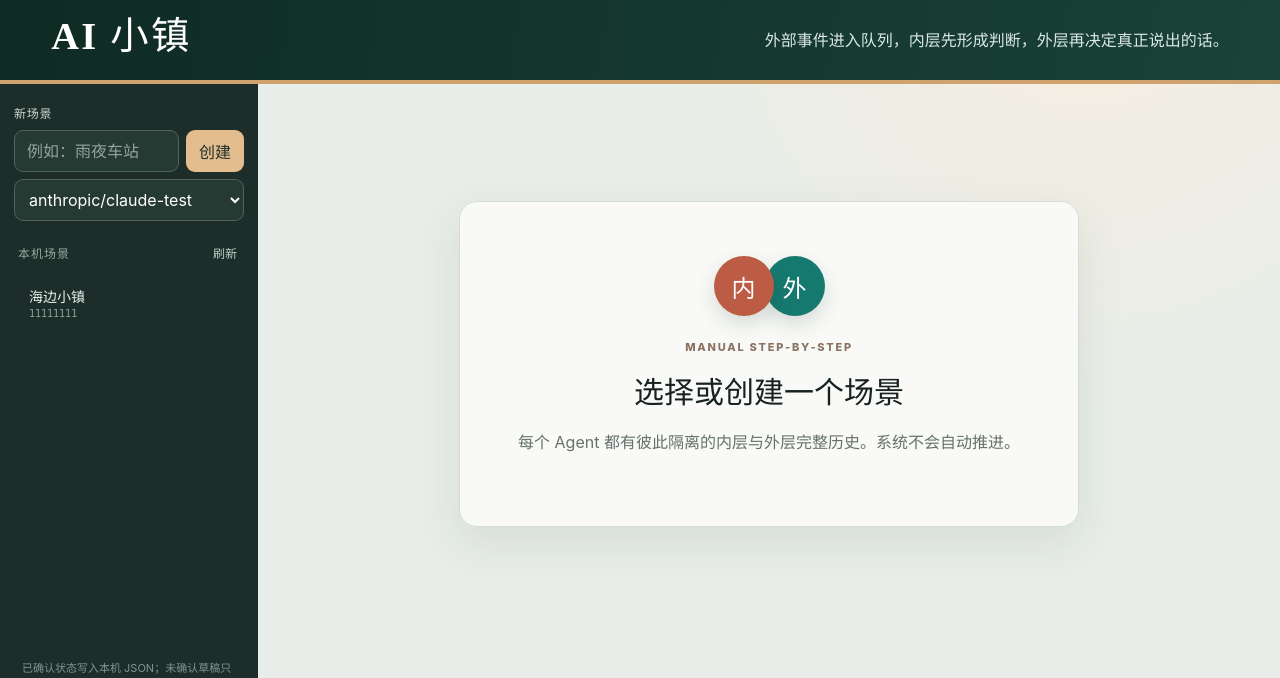
App › keeps the edited draft when regeneration fails
Click the button "海边小镇 11111111" at (113, 302), box [19,277,207,328]
(page scrolled)
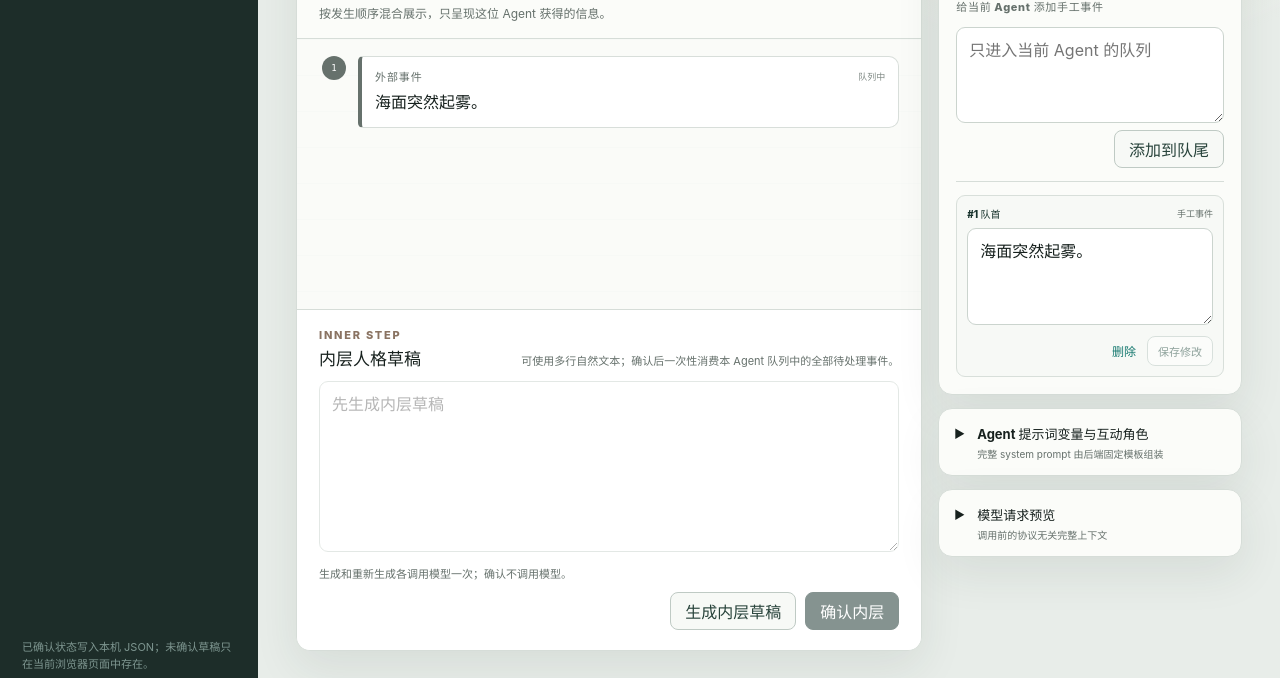
Click the button "生成内层草稿" at (733, 611), box [670,592,796,630]
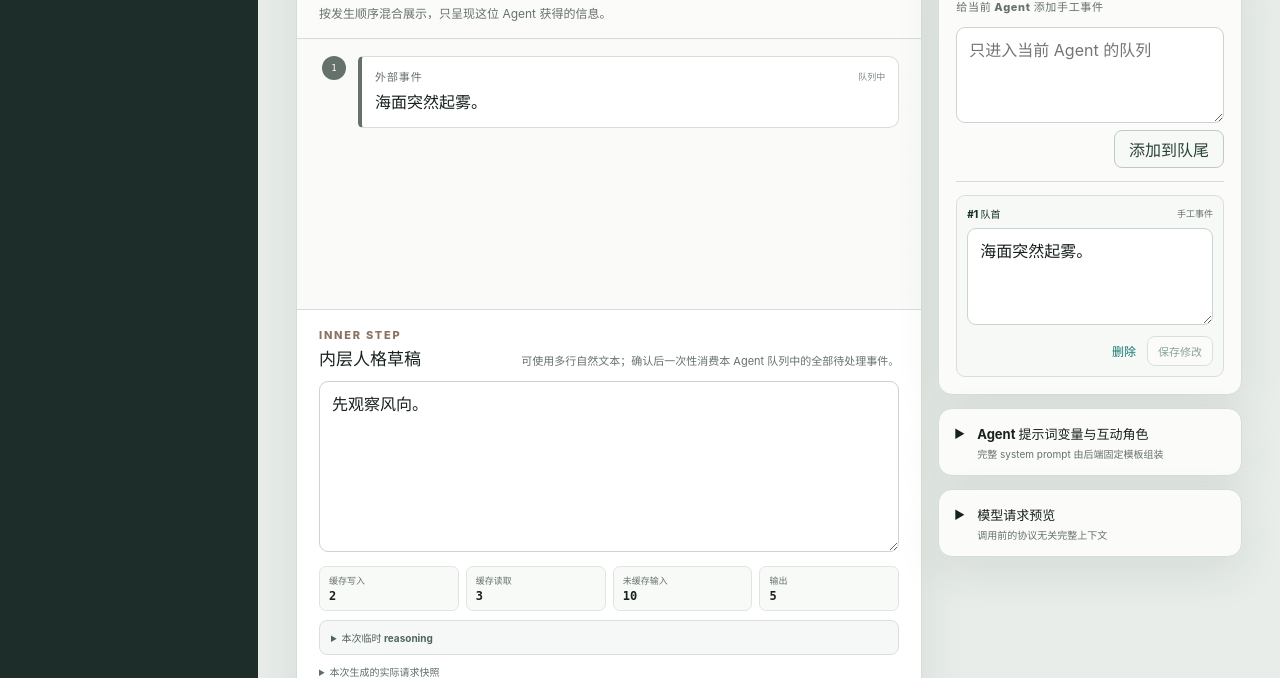
Replace the text in the text box with id "layer-draft-content" with "用户保留的修改" at (609, 466), box [319,381,899,552]
(page scrolled)
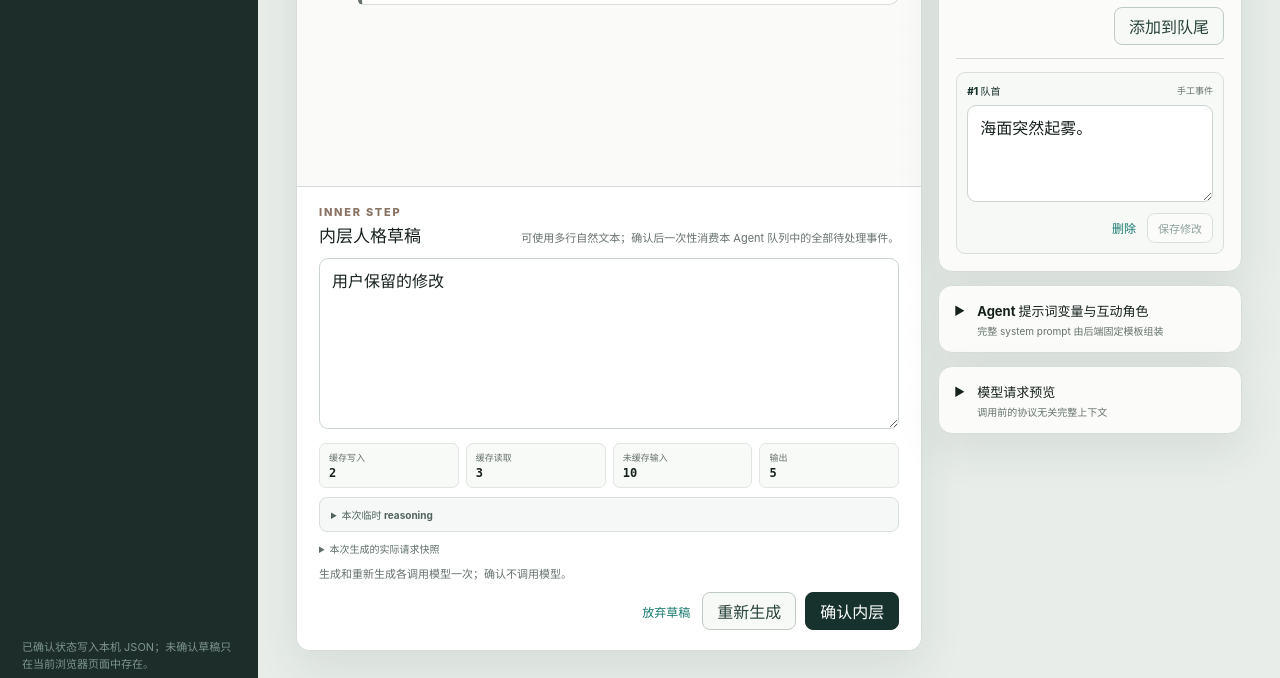
Click the button "重新生成" at (749, 611), box [702,592,796,630]
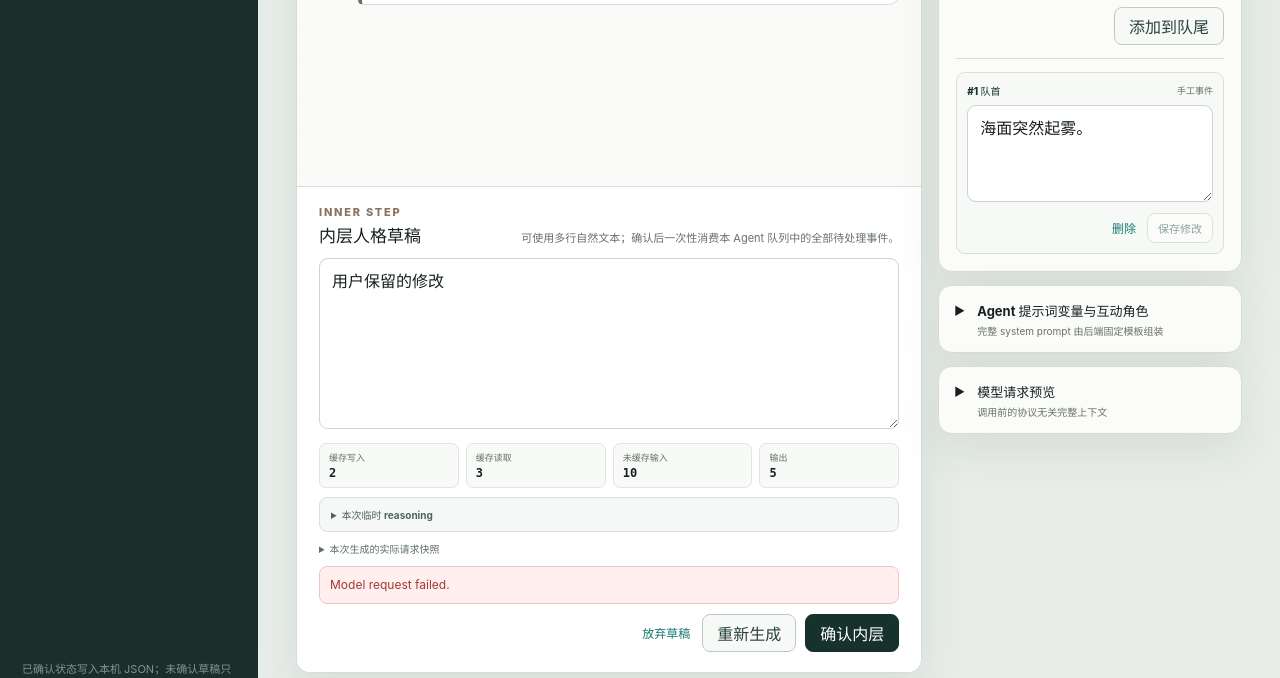
Expected: the text "Model request failed." is shown, [319,566,899,604]
